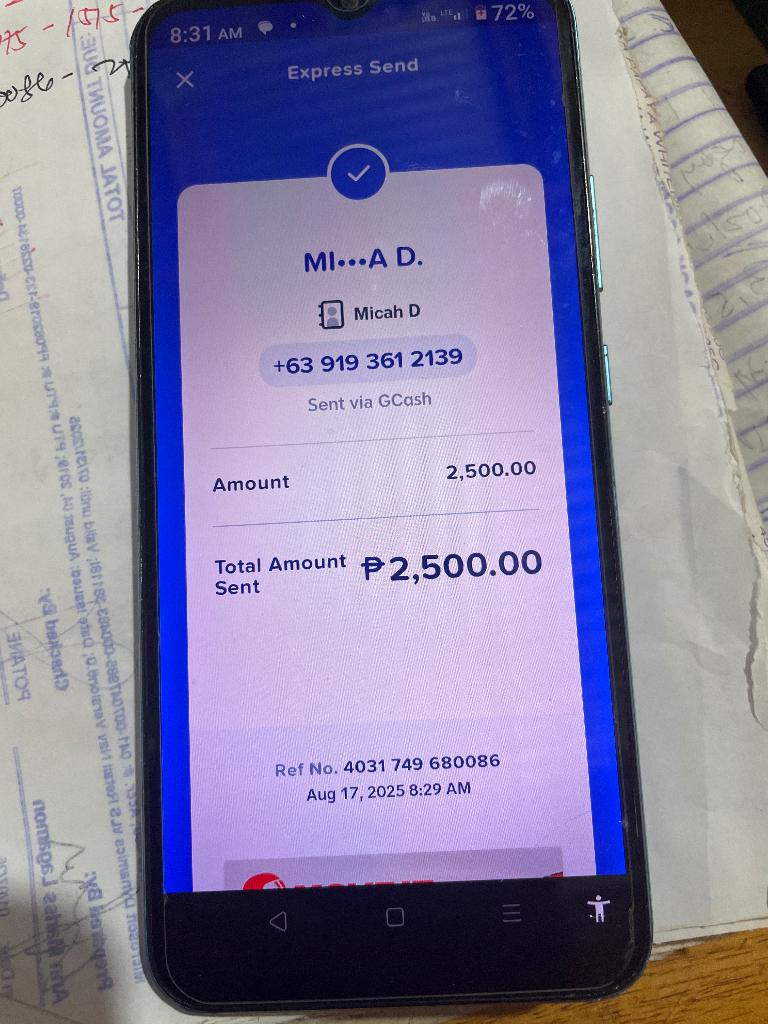Receipt: (153, 27, 625, 888)
